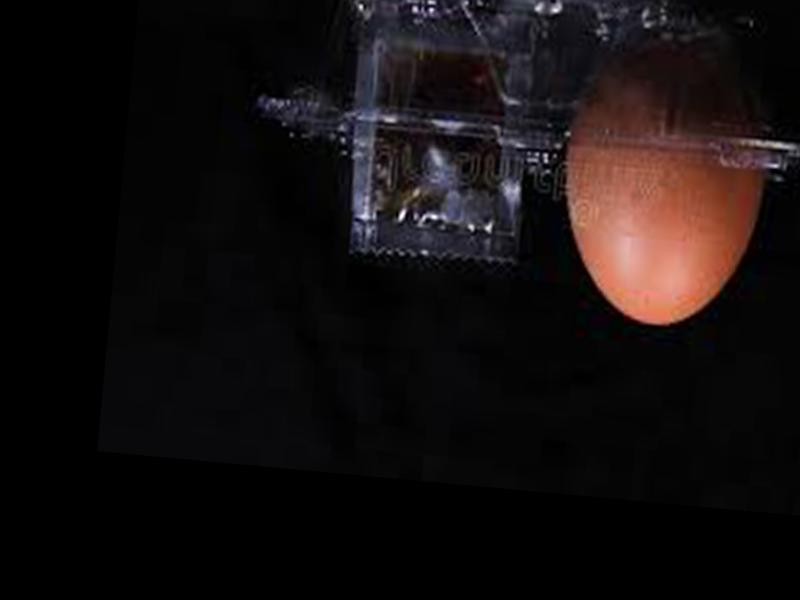Eggs: (554, 21, 781, 333)
